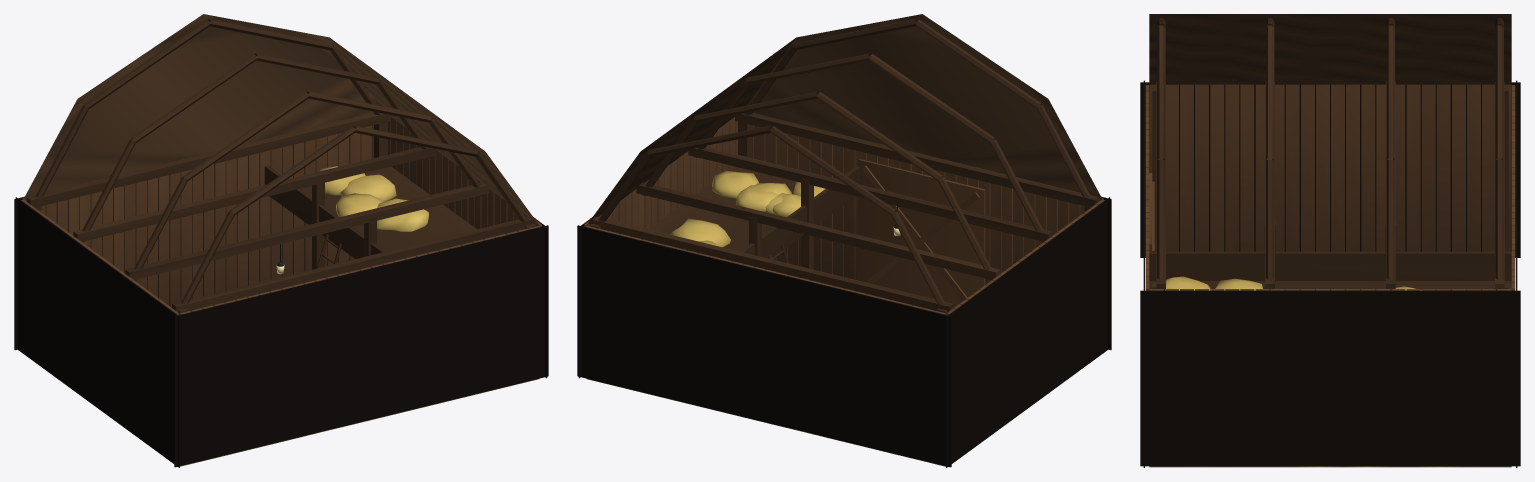
The model's file is BarnInside.glb.
The picture shows the model from 3 angles, left to right: view 1: azimuth 30°, elevation 25°; view 2: azimuth 150°, elevation 25°; view 3: azimuth 270°, elevation 25°; orthographic projection. The views are drawn at different scales.
Parts seen in each view (by area): view 1: BarnBacking, BarnBeams, BarnRoofInside, BarnBoards, LoftHay; view 2: BarnBacking, BarnBeams, BarnRoofInside, BarnBoards, BarnDoorInside, LoftHay; view 3: BarnBacking, BarnBoards, BarnRoofInside, BarnBeams, LoftHay, BarnFloor, BarnDoorInside.
Boxes of the visible parts, box(x1,y1,x2,y2) form: BarnBacking: box(14, 196, 548, 467); BarnBeams: box(26, 19, 536, 314); BarnRoofInside: box(24, 14, 539, 225); BarnBoards: box(21, 117, 541, 315); LoftHay: box(319, 166, 429, 231); BarnBacking: box(577, 196, 1111, 467); BarnBeams: box(589, 19, 1099, 314); BarnRoofInside: box(586, 14, 1101, 225); BarnBoards: box(584, 117, 1104, 315); BarnDoorInside: box(858, 159, 985, 307); LoftHay: box(670, 171, 825, 247); BarnBacking: box(1140, 80, 1520, 467); BarnBoards: box(1145, 84, 1515, 290); BarnRoofInside: box(1149, 14, 1511, 84); BarnBeams: box(1149, 18, 1511, 290); LoftHay: box(1166, 276, 1421, 290); BarnFloor: box(1149, 466, 1511, 467); BarnDoorInside: box(1149, 173, 1154, 252).
Size of the model in its own units: 8.3 by 6.26 by 6.3.
